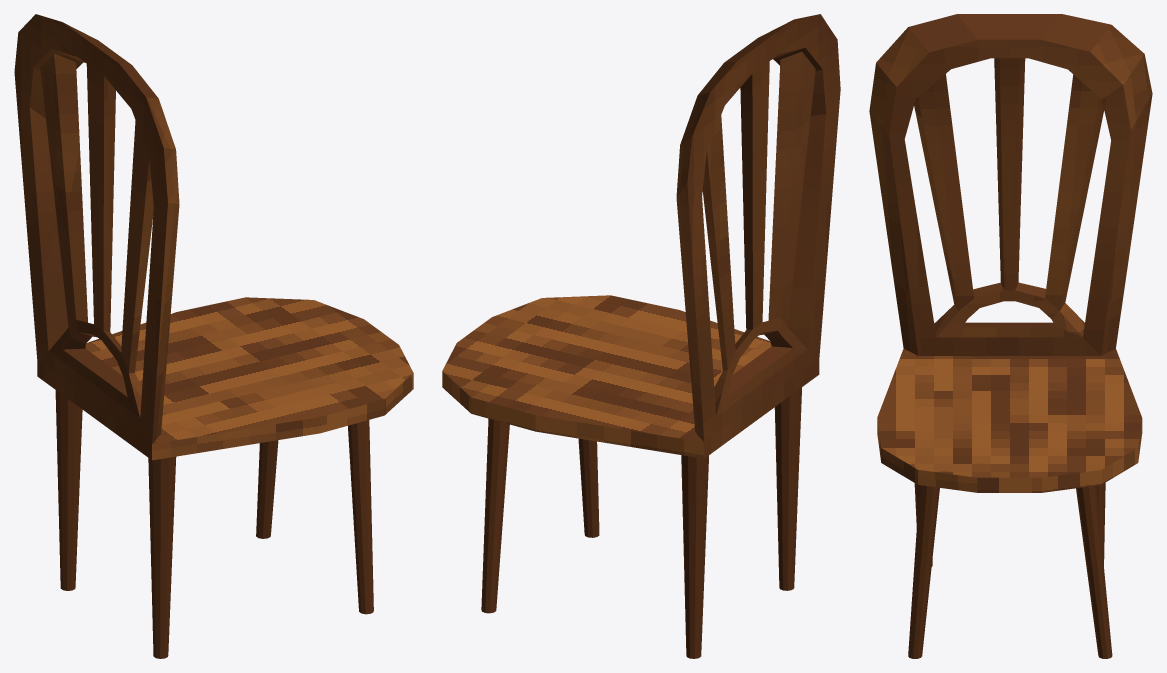
The model's file is sandalye.fbx.
3 renders of one model, left to right at view 1: azimuth 30°, elevation 25°; view 2: azimuth 150°, elevation 25°; view 3: azimuth 270°, elevation 25°, orthographic. The views are drawn at different scales.
Visible parts, largest first — view 1: Plane; view 2: Plane; view 3: Plane.
Part boxes in pixels (<box>): Plane: <box>14,14,413,658</box>; Plane: <box>442,14,840,658</box>; Plane: <box>869,14,1152,658</box>.
Bounding box in the file's own units: 2.26 × 4.35 × 2.06.
Materials: 1 (1 with a texture image).
